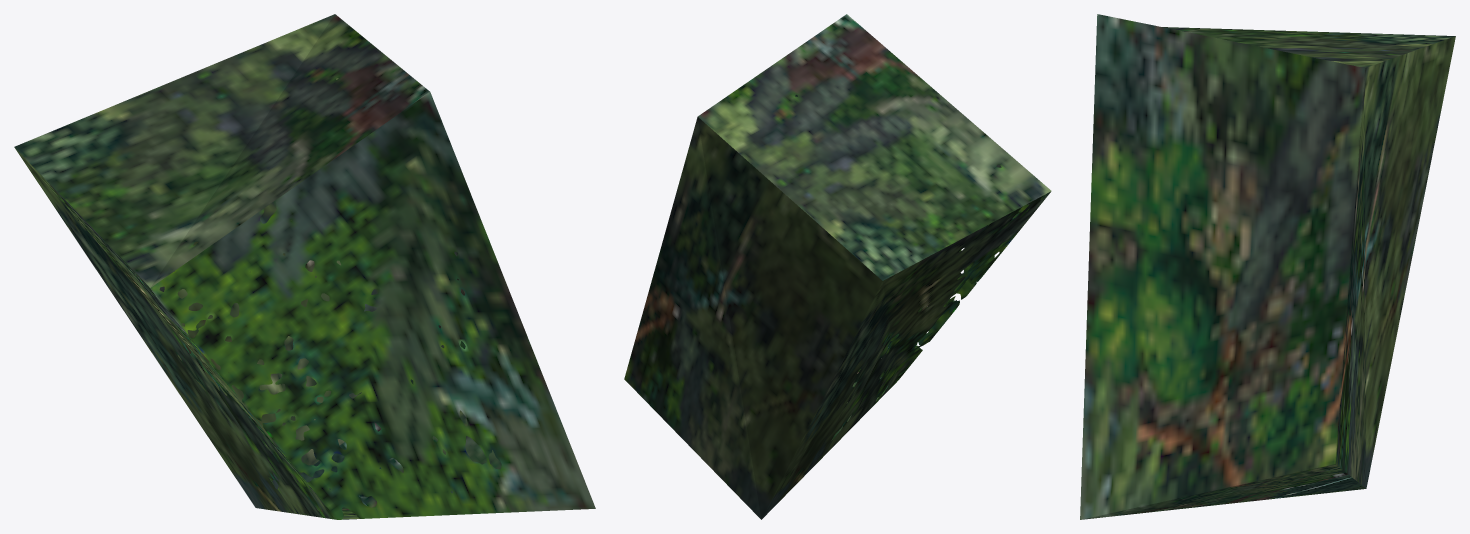
The model's file is BurntTree_5_B_2.gltf.
3 views of the same model, side by side, from view 1: azimuth 30°, elevation 25°; view 2: azimuth 150°, elevation 25°; view 3: azimuth 270°, elevation 25° (orthographic). The views are drawn at different scales.
Parts seen in each view (by area): view 1: BurntTree_5_B_2; view 2: BurntTree_5_B_2; view 3: BurntTree_5_B_2.
Boxes of the visible parts, bbox=[...] form: BurntTree_5_B_2: bbox=[14, 14, 595, 519]; BurntTree_5_B_2: bbox=[624, 14, 1051, 519]; BurntTree_5_B_2: bbox=[1080, 14, 1455, 519].
Size of the model in its own units: 1.13 by 1.3 by 0.9025.
1 material, 1 textured.
